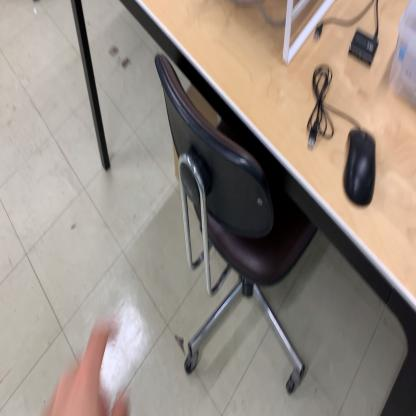chair: (155, 47, 330, 400)
